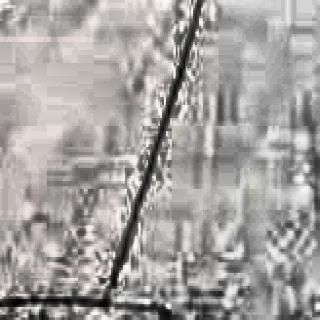crack: (104, 2, 205, 295), (1, 294, 174, 320)
